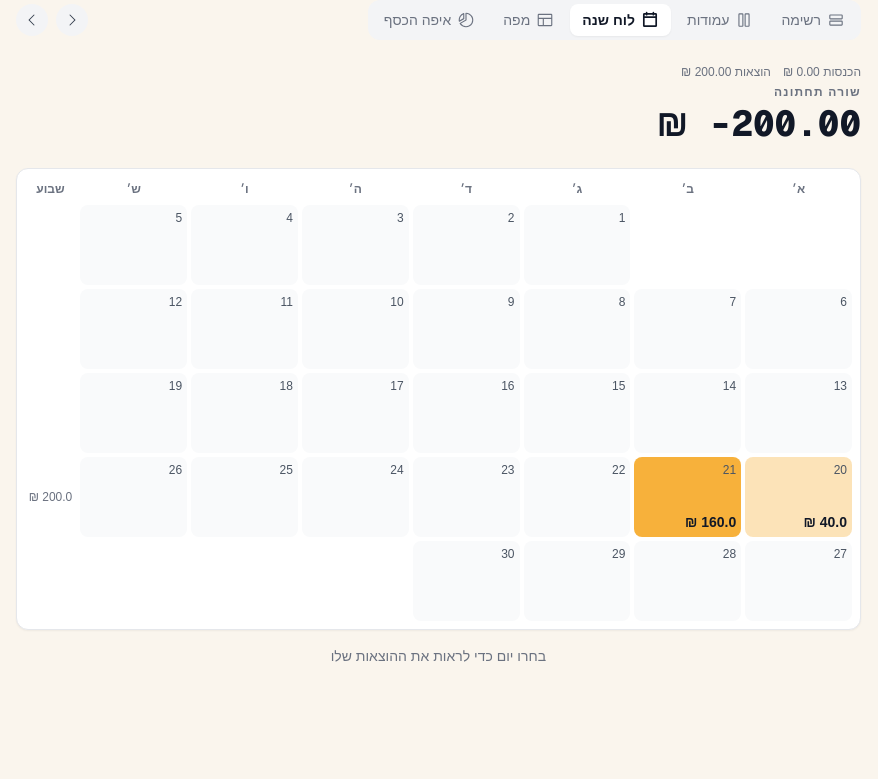
ExpensesExplorer calendar view › shows day totals and lists a tapped day
Expected: the text "SUPERMARKET" is not shown
Click the button "21 160.0 ₪" at (688, 497), box [634,457,741,537]
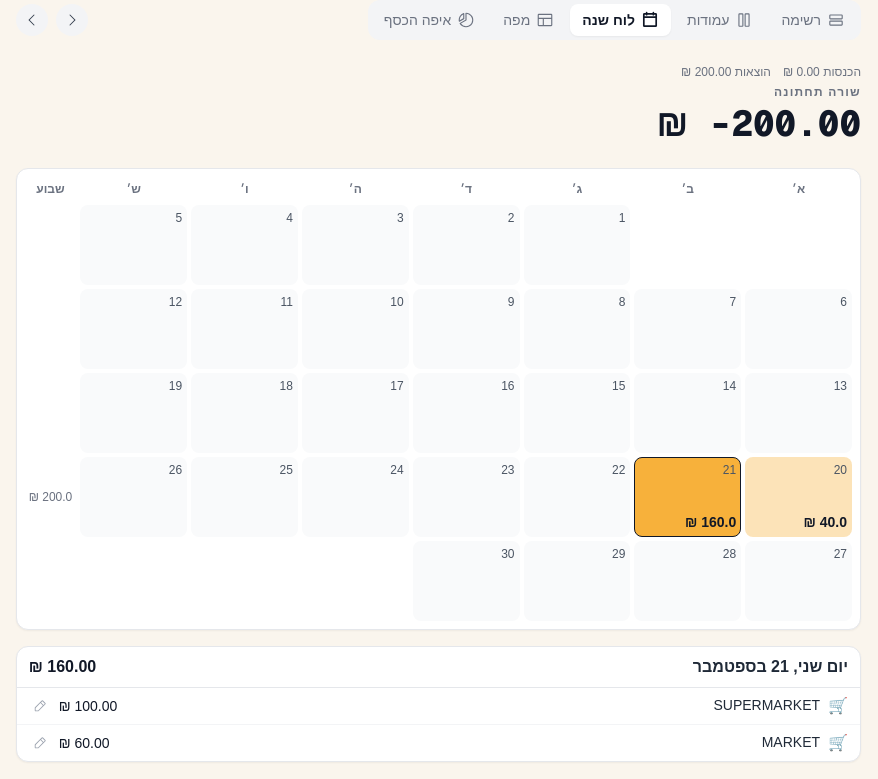
Expected: the text "SUPERMARKET" is shown, [714,697,820,713]
Expected: the text "MARKET" is shown, [762,734,820,750]
